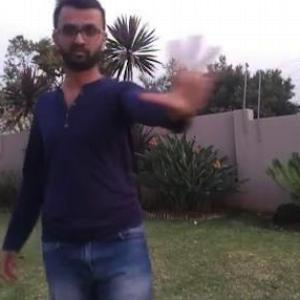follow_hand: (138, 30, 231, 116)
